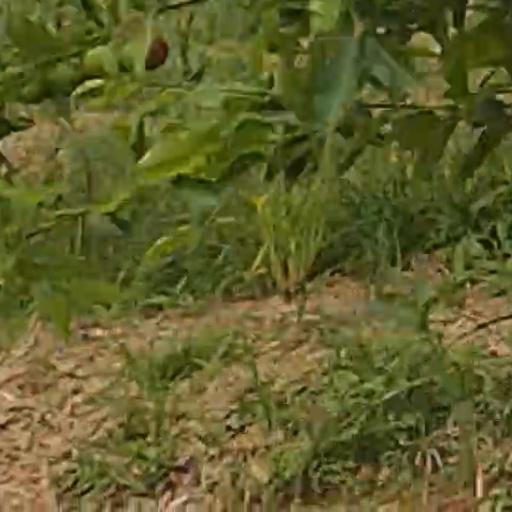acerola: (84, 46, 110, 74), (148, 39, 166, 68), (120, 39, 137, 69)
